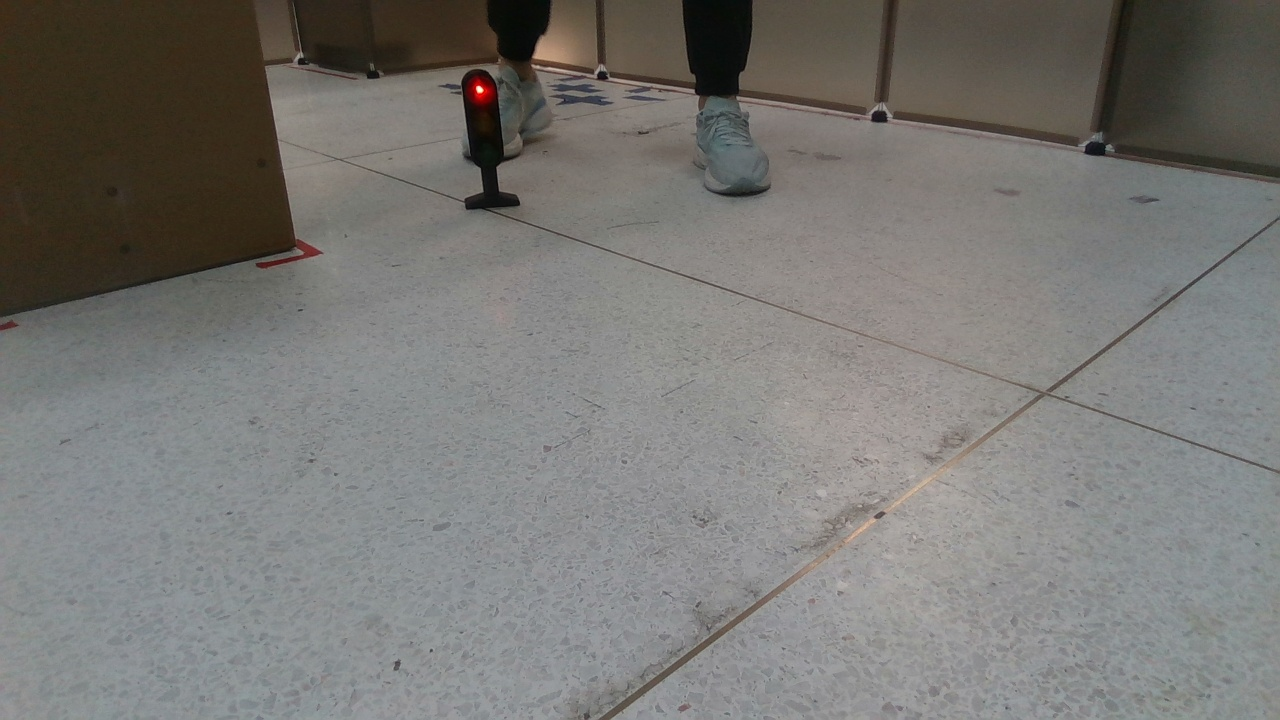Red traffic light: (457, 71, 526, 213)
